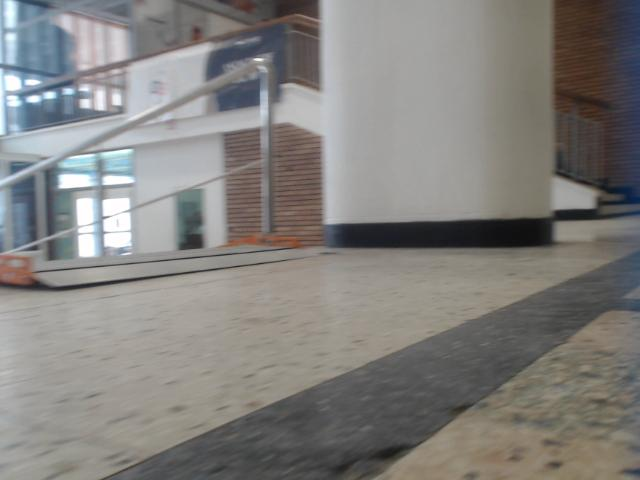rampDown: (0, 240, 313, 287)
ramps-railing: (0, 59, 272, 189), (105, 160, 262, 218), (256, 58, 276, 234), (3, 227, 79, 252), (95, 160, 104, 255)
